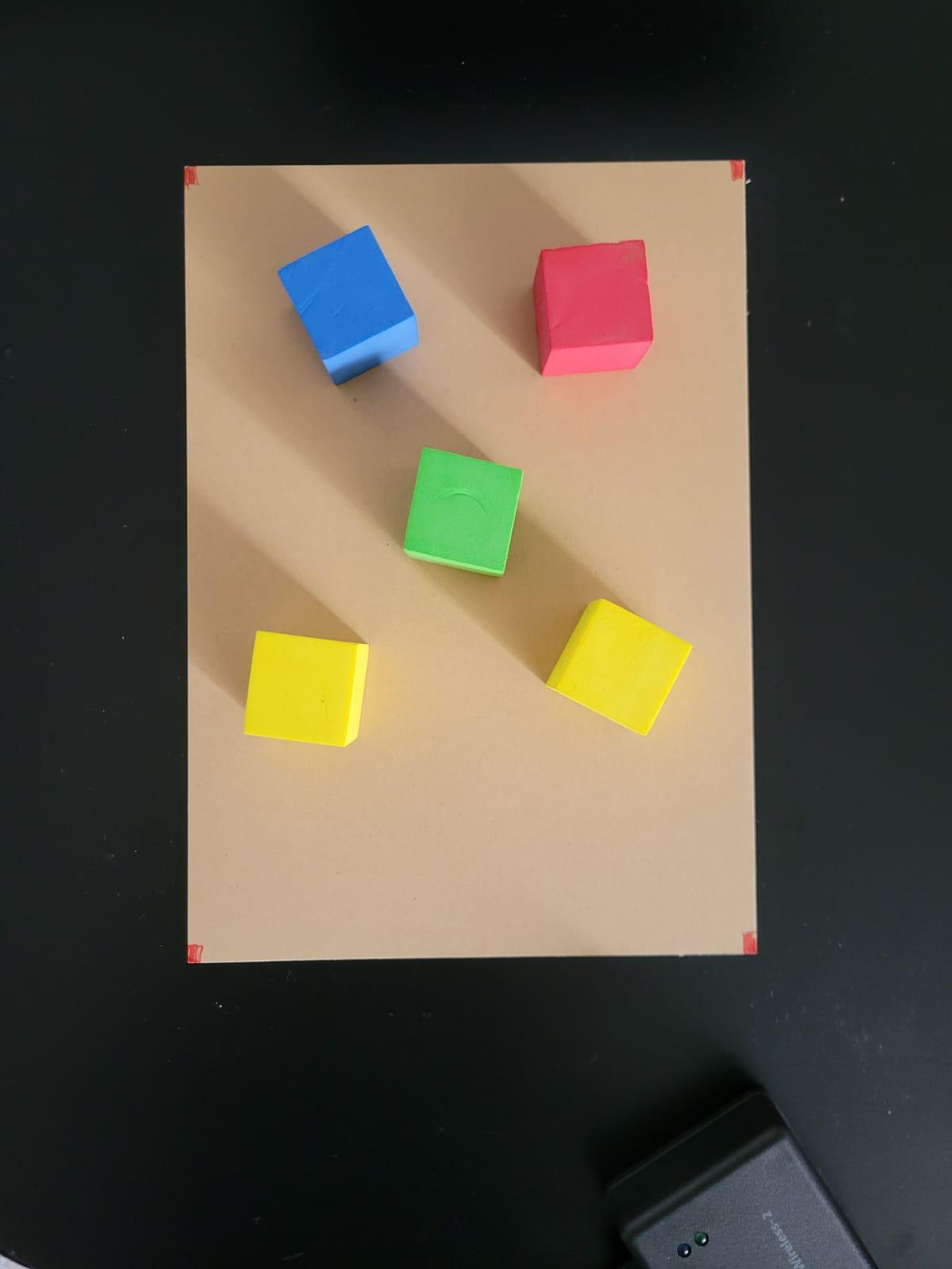cube: (284, 226, 422, 385), (553, 591, 694, 738), (536, 238, 651, 375), (236, 633, 373, 746), (403, 450, 524, 573)
